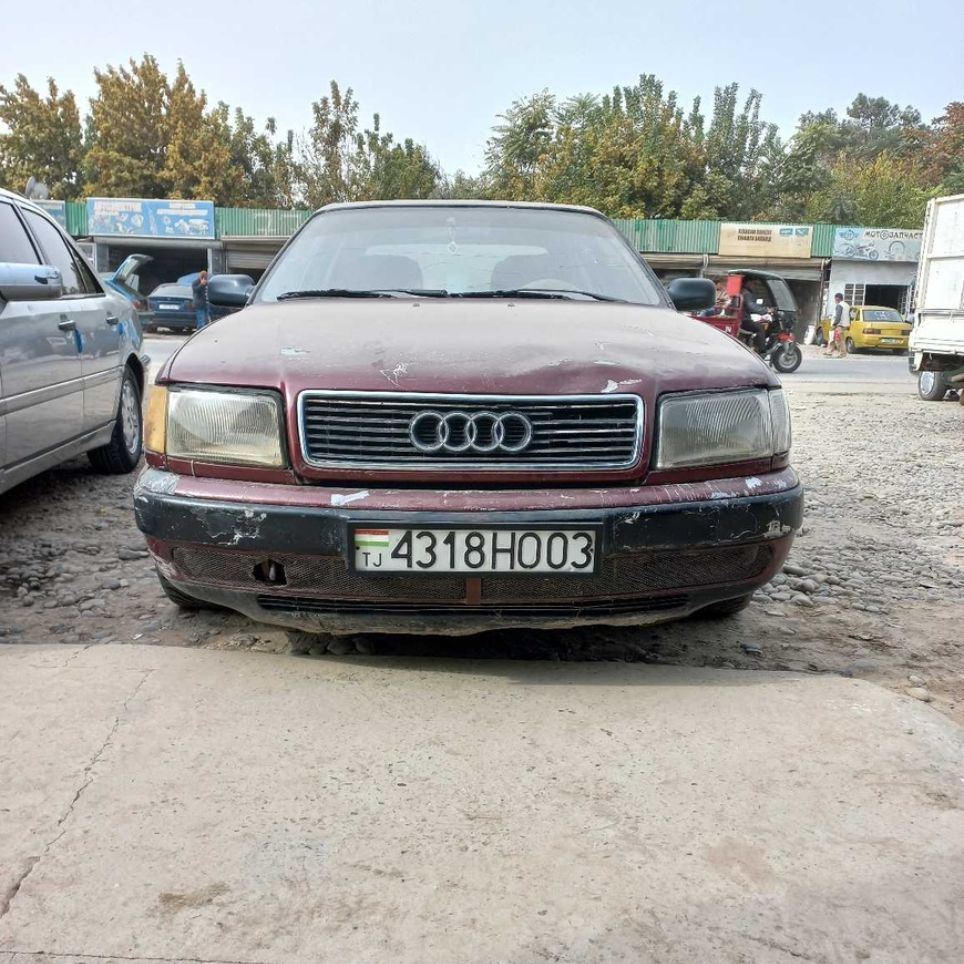license plate: (350, 521, 600, 575)
truck: (140, 201, 802, 650)
